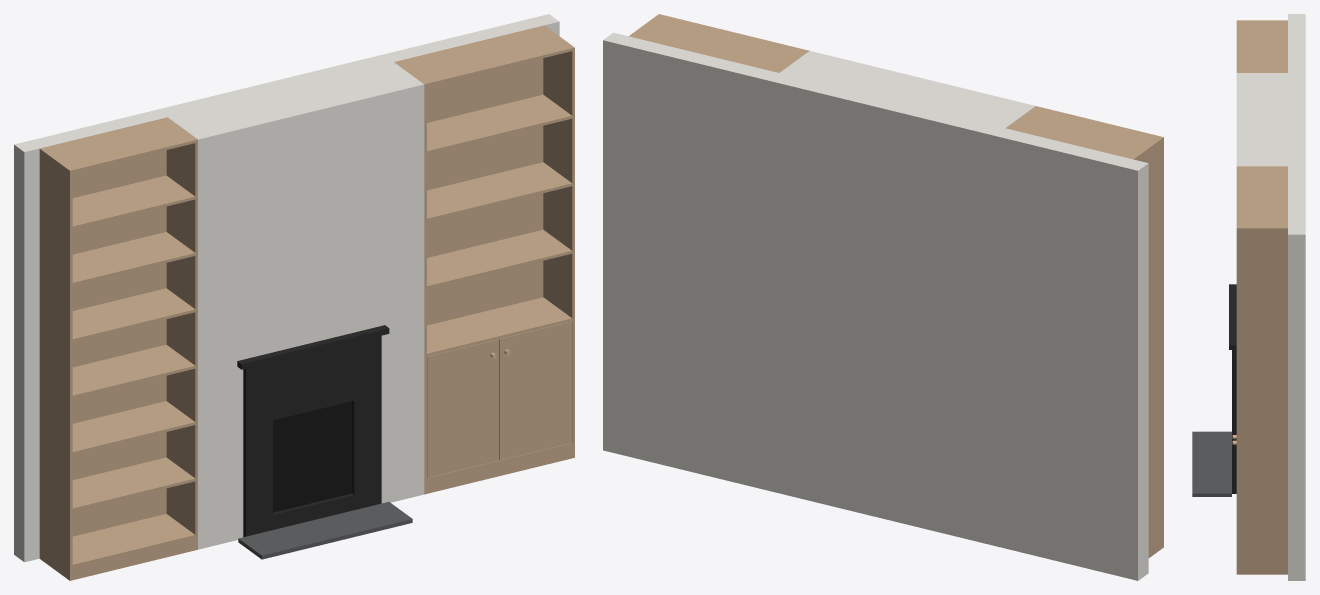
The model's file is alcove-units-palmers-green.glb.
The picture shows the model from 3 angles, left to right: view 1: azimuth 30°, elevation 25°; view 2: azimuth 150°, elevation 25°; view 3: azimuth 270°, elevation 25°; orthographic projection. The views are drawn at different scales.
Visible parts, largest first — view 1: Room: Chimney breast, Right alcove: Back, 18 mm, Left alcove: Back, 18 mm, Room: Back wall, Room: Fireplace, Left alcove: Side, left, Left alcove: Side, right, Right alcove: Door, right (hinged right), Right alcove: Door, left (hinged left), Room: Fire back, Right alcove: Side, right, Right alcove: Top (+17 smaller); view 2: Room: Back wall, Room: Chimney breast, Left alcove: Side, left, Right alcove: Top, Left alcove: Top; view 3: Right alcove: Side, right, Room: Back wall, Room: Chimney breast, Right alcove: Top, Room: Hearth, Left alcove: Top, Room: Fireplace, Room: Mantel, Right alcove: Back, 18 mm.
Part boxes in pixels (x1,y1,x2,y2): Room: Chimney breast: [168, 62, 424, 549]; Right alcove: Back, 18 mm: [397, 26, 543, 325]; Left alcove: Back, 18 mm: [42, 118, 166, 536]; Room: Back wall: [14, 14, 559, 562]; Room: Fireplace: [243, 335, 381, 537]; Left alcove: Side, left: [39, 148, 72, 580]; Left alcove: Side, right: [165, 117, 197, 550]; Right alcove: Door, right (hinged right): [499, 321, 571, 460]; Right alcove: Door, left (hinged left): [427, 339, 499, 477]; Room: Fire back: [273, 401, 351, 512]; Right alcove: Side, right: [542, 25, 574, 458]; Right alcove: Top: [398, 27, 572, 86]; Room: Back wall: [603, 32, 1148, 580]; Room: Chimney breast: [780, 51, 1035, 128]; Left alcove: Side, left: [1131, 136, 1163, 557]; Right alcove: Top: [633, 14, 806, 70]; Left alcove: Top: [1010, 106, 1160, 157]; Right alcove: Side, right: [1236, 227, 1287, 574]; Room: Back wall: [1288, 14, 1305, 580]; Room: Chimney breast: [1236, 73, 1287, 166]; Right alcove: Top: [1236, 167, 1285, 227]; Room: Hearth: [1192, 431, 1231, 496]; Left alcove: Top: [1236, 21, 1285, 71]; Room: Fireplace: [1232, 350, 1236, 493]; Room: Mantel: [1229, 284, 1236, 349]; Right alcove: Back, 18 mm: [1285, 167, 1287, 227].
Size of the model in its own units: 3.55 by 2.6 by 0.77.
